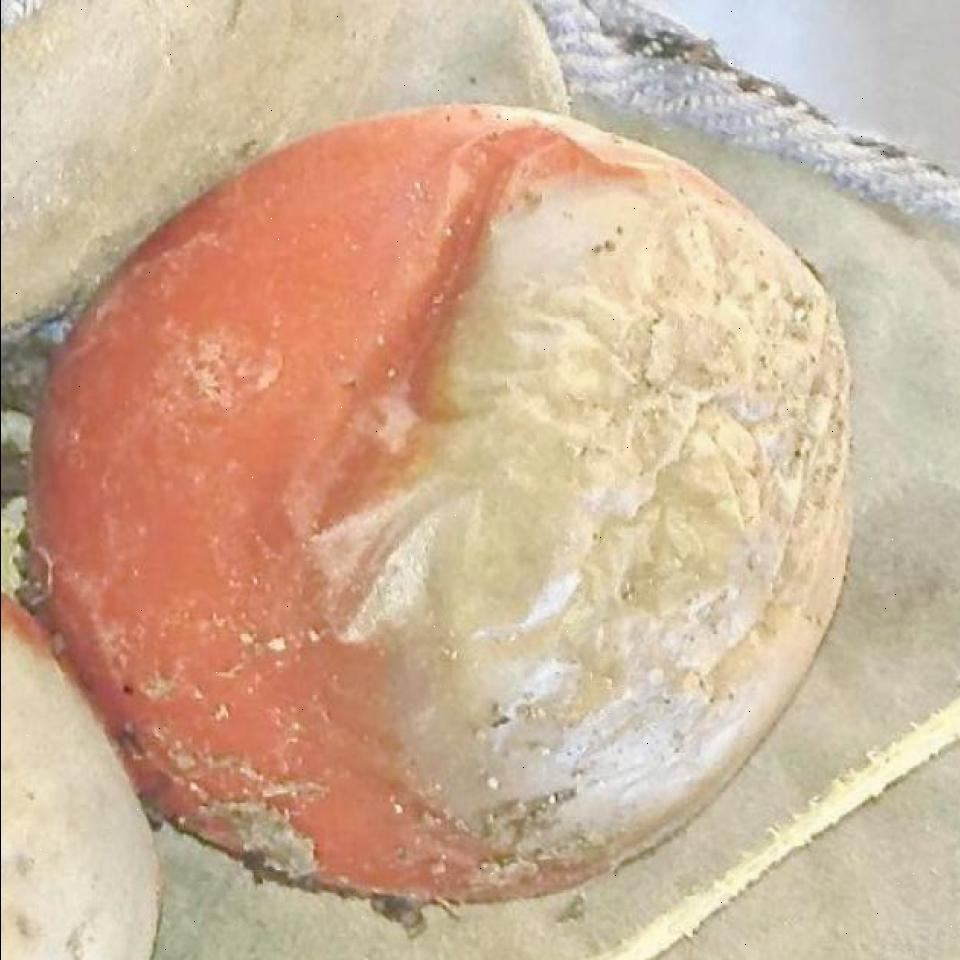Sunscald: (319, 161, 851, 871)
